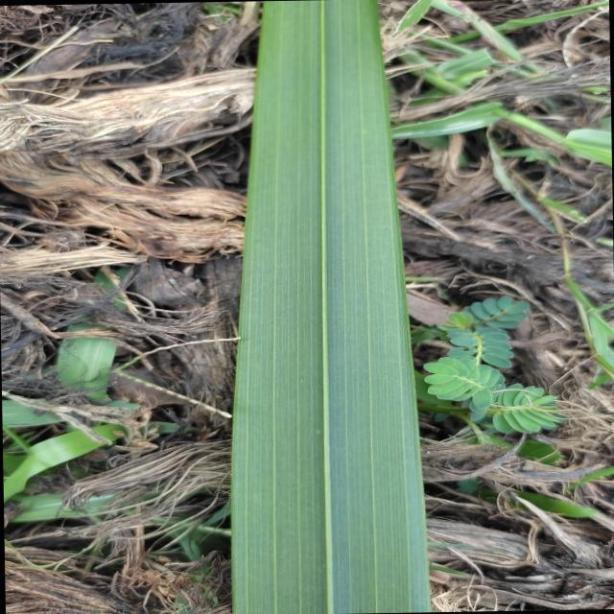Healthy: (227, 0, 427, 614)
